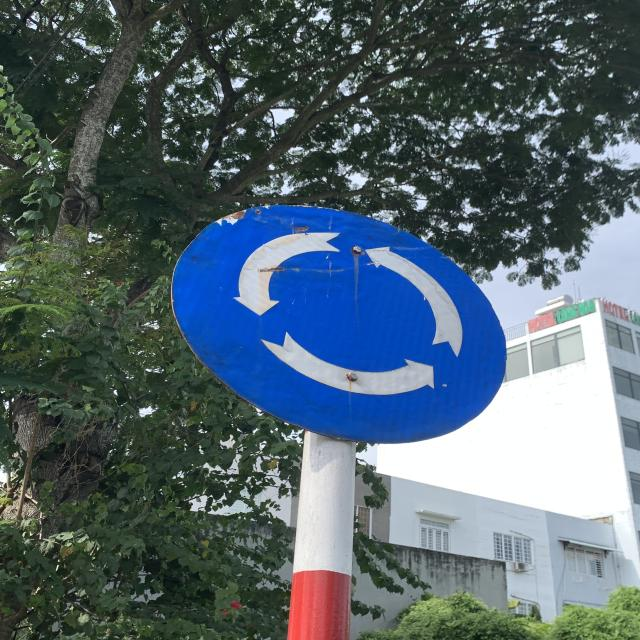Xe_Bus: (176, 200, 508, 447)
